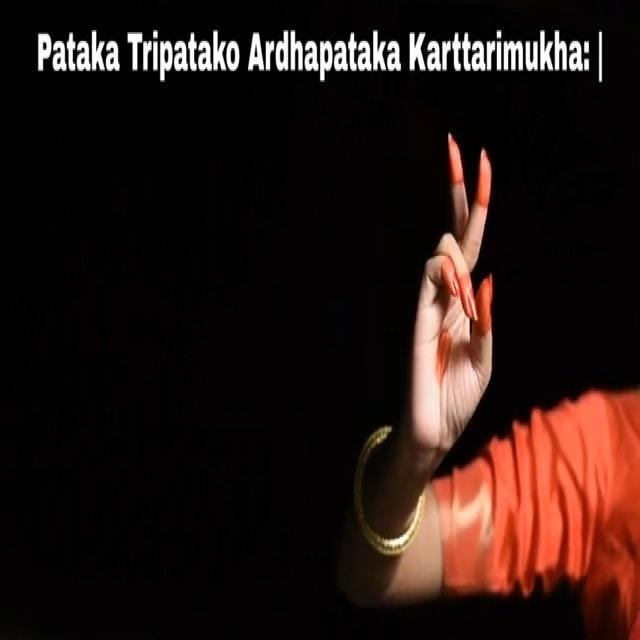Kartarimukha: (396, 125, 521, 440)
bangle: (345, 423, 425, 565)
text: (26, 16, 617, 94)
